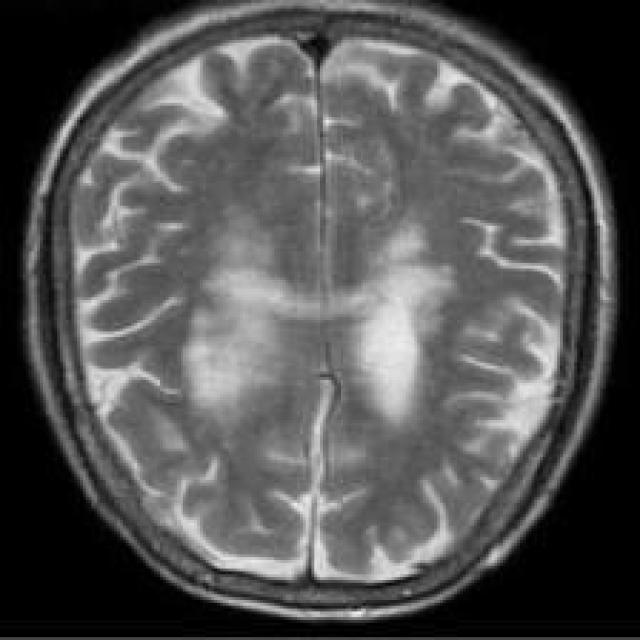no_tumor: (20, 4, 617, 617)
